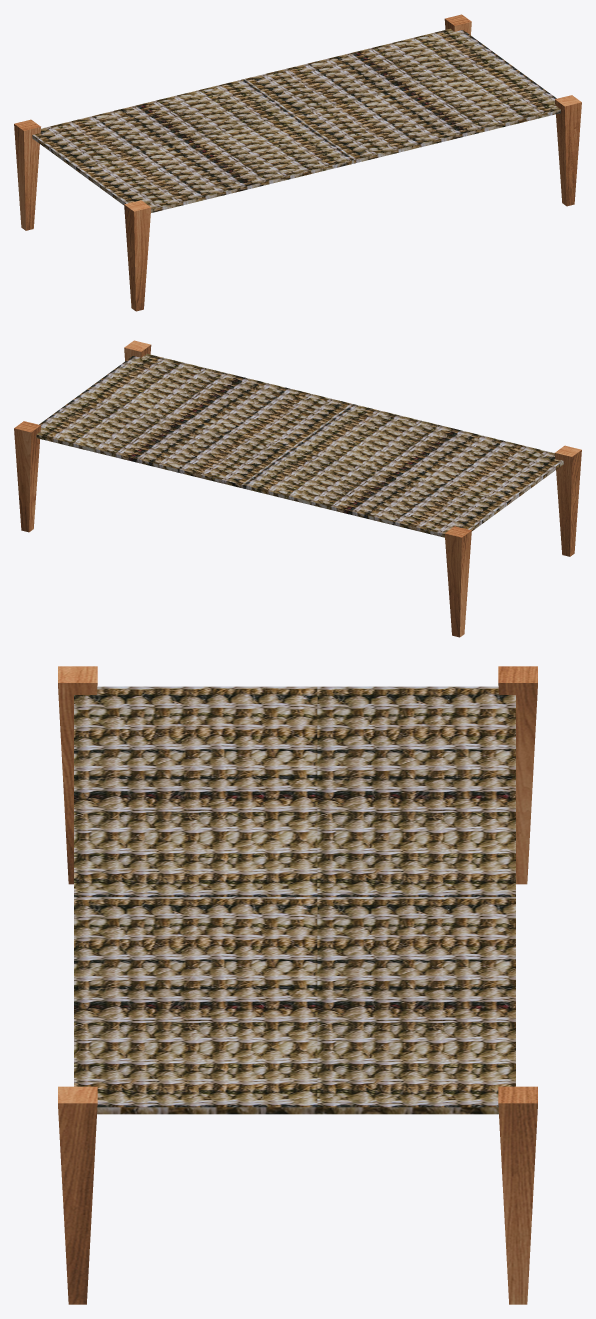
File: SM_Khatiya.fbx
3 views of the same model, one above another, from view 1: azimuth 30°, elevation 25°; view 2: azimuth 150°, elevation 25°; view 3: azimuth 270°, elevation 25° (orthographic). The views are drawn at different scales.
Parts seen in each view (by area): view 1: SM_Khatiya; view 2: SM_Khatiya; view 3: SM_Khatiya.
Boxes of the visible parts, box(x1,y1,x2,y2) form: SM_Khatiya: box(14, 14, 581, 311); SM_Khatiya: box(14, 340, 581, 637); SM_Khatiya: box(58, 666, 537, 1304).
Size of the model in its own units: 7280 by 1600 by 3380.
Materials: 1 (1 with a texture image).
